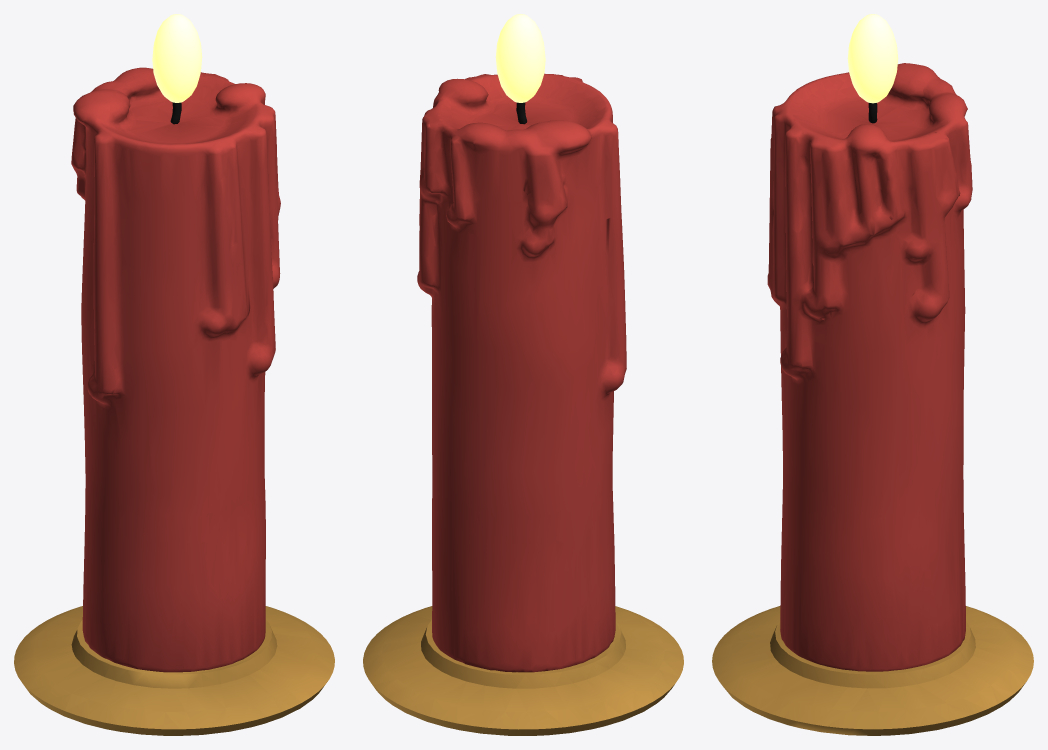
File: frost_candle_great.glb
3 views of the same model, side by side, from view 1: azimuth 30°, elevation 25°; view 2: azimuth 150°, elevation 25°; view 3: azimuth 270°, elevation 25° (orthographic).
Parts seen in each view (by area): view 1: frost_candle_great, flame; view 2: frost_candle_great, flame; view 3: frost_candle_great, flame.
Boxes of the visible parts, x1,y1,x2,y2 form: frost_candle_great: (14,67,334,735); flame: (152,14,202,102); frost_candle_great: (363,73,683,735); flame: (495,14,545,102); frost_candle_great: (712,63,1033,735); flame: (847,14,898,103).
Size of the model in its own units: 25 by 56.27 by 25.
